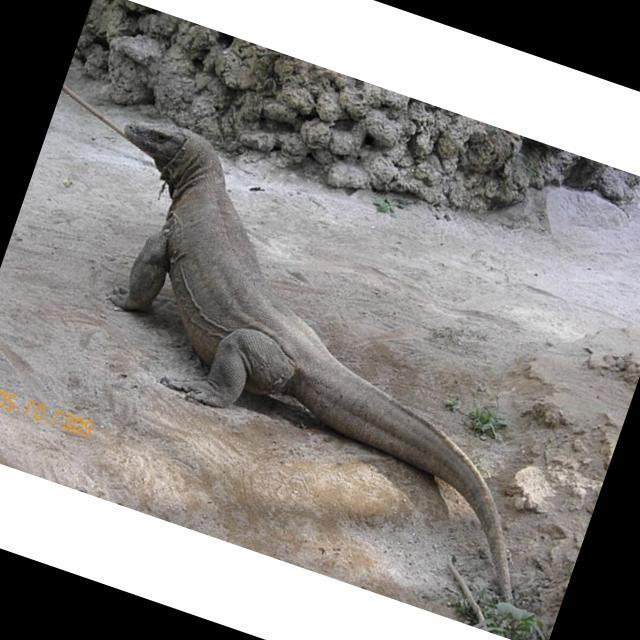KomodoDragon: (17, 105, 626, 606)
